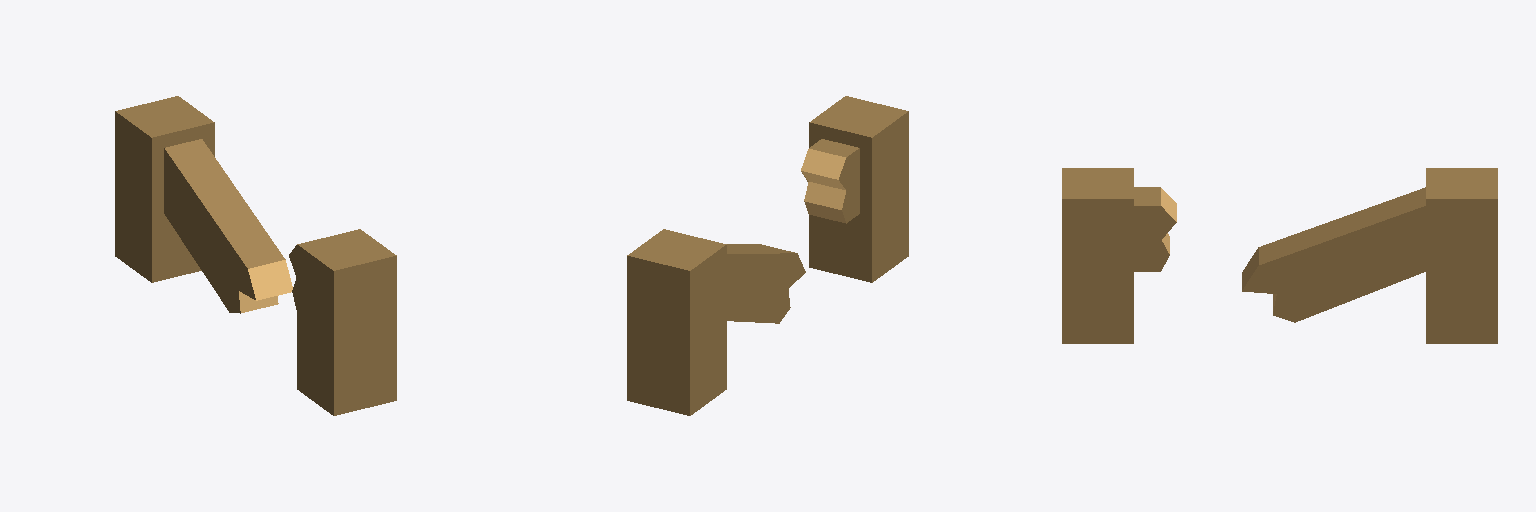
File: Wood_Fence_Broken_01.obj
3 renders of one model, left to right at view 1: azimuth 30°, elevation 25°; view 2: azimuth 150°, elevation 25°; view 3: azimuth 270°, elevation 25°, orthographic.
Parts seen in each view (by area): view 1: Mesh2_Wood_Fence_Broken_Model, Mesh1_Wood_Fence_Broken_Model; view 2: Mesh2_Wood_Fence_Broken_Model, Mesh1_Wood_Fence_Broken_Model; view 3: Mesh2_Wood_Fence_Broken_Model, Mesh1_Wood_Fence_Broken_Model.
Boxes of the visible parts, <box> form: Mesh2_Wood_Fence_Broken_Model: <box>115,96,292,313</box>; Mesh1_Wood_Fence_Broken_Model: <box>289,229,396,415</box>; Mesh2_Wood_Fence_Broken_Model: <box>627,229,805,415</box>; Mesh1_Wood_Fence_Broken_Model: <box>801,96,908,282</box>; Mesh2_Wood_Fence_Broken_Model: <box>1242,168,1497,343</box>; Mesh1_Wood_Fence_Broken_Model: <box>1062,168,1176,343</box>.
Size of the model in its own units: 0.5 by 1.1 by 3.